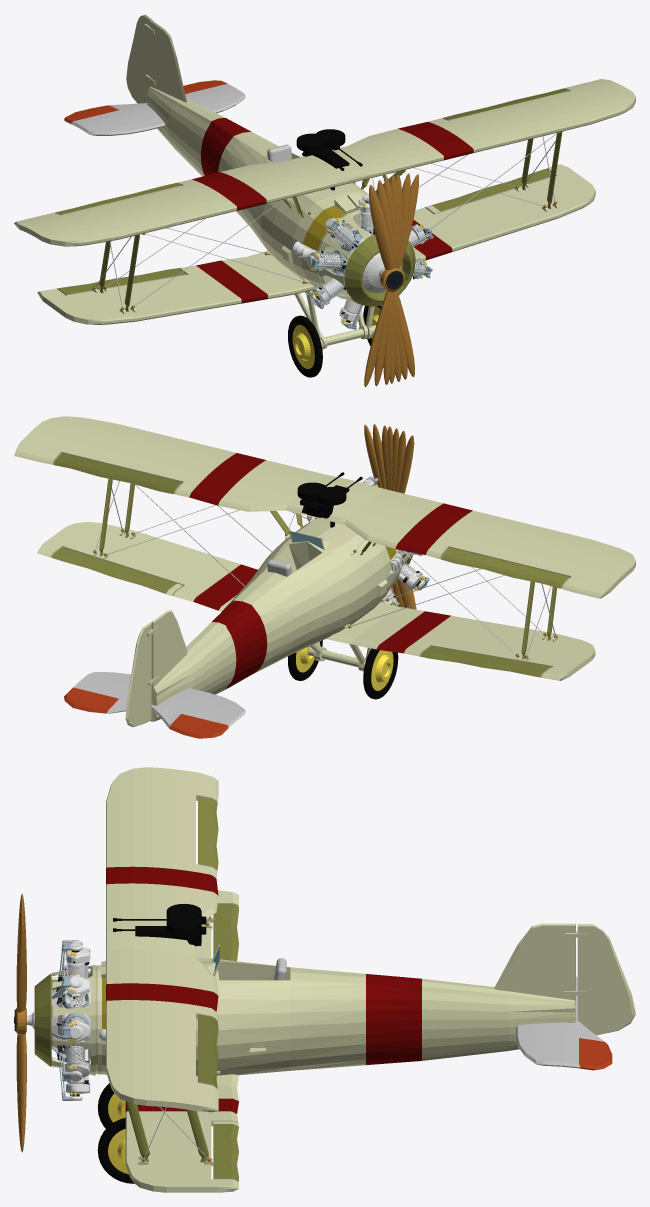
File: Old Aeroplane.fbx
The picture shows the model from 3 angles, top to bottom: view 1: azimuth 30°, elevation 25°; view 2: azimuth 150°, elevation 25°; view 3: azimuth 270°, elevation 25°; orthographic projection. The views are drawn at different scales.
Visible parts, largest first — view 1: jaktfalken:Layer1; view 2: jaktfalken:Layer1; view 3: jaktfalken:Layer1.
Boxes of the visible parts, <box> form: jaktfalken:Layer1: <box>14,14,635,387</box>; jaktfalken:Layer1: <box>14,416,635,738</box>; jaktfalken:Layer1: <box>14,767,635,1192</box>.
Size of the model in its own units: 7784 by 2842 by 6143.
